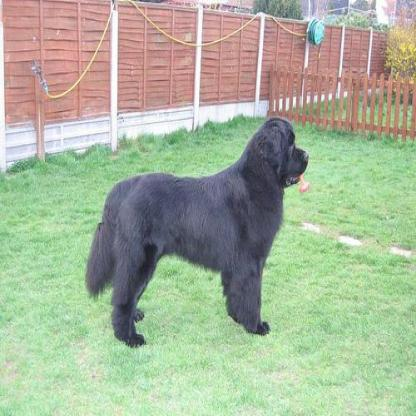Newfoundland: (84, 117, 310, 346)
